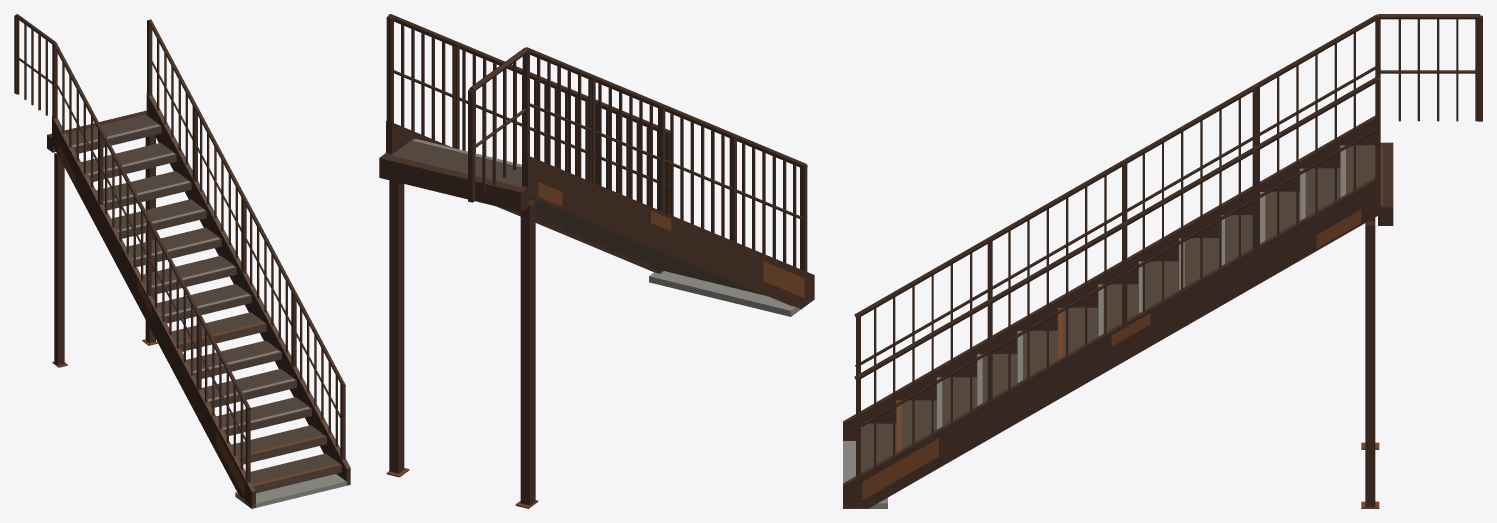
The model's file is ext_stairs.glb.
3 views of the same model, side by side, from view 1: azimuth 30°, elevation 25°; view 2: azimuth 150°, elevation 25°; view 3: azimuth 270°, elevation 25° (orthographic). The views are drawn at different scales.
Visible parts, largest first — view 1: ext_stairs; view 2: ext_stairs; view 3: ext_stairs.
Part boxes in pixels (x1=…): ext_stairs: x1=14, y1=14, x2=350, y2=508; ext_stairs: x1=379, y1=14, x2=814, y2=508; ext_stairs: x1=843, y1=14, x2=1482, y2=508.
Size of the model in its own units: 1.2 by 3.72 by 5.
